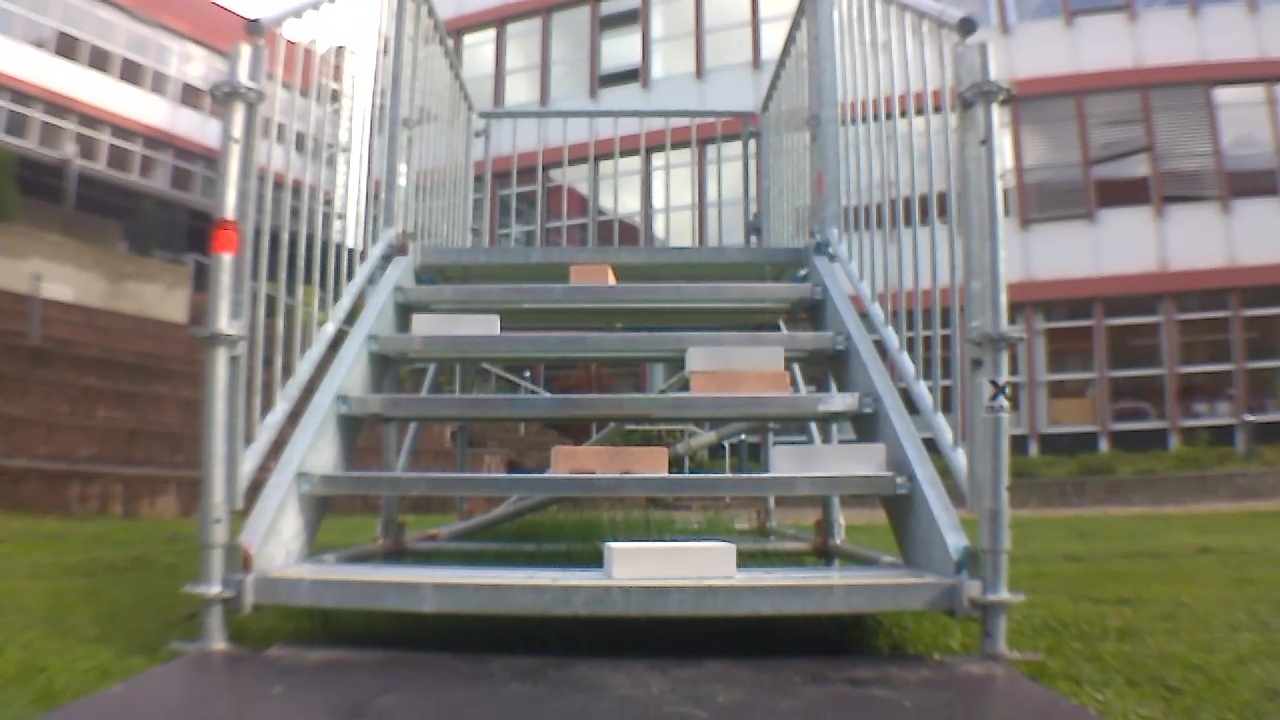brick: (605, 541, 735, 581), (770, 443, 883, 475), (552, 446, 666, 472), (689, 370, 786, 396), (685, 347, 781, 371), (414, 315, 499, 334), (567, 264, 614, 284)
edge: (252, 576, 949, 614), (297, 471, 913, 495), (336, 393, 879, 414), (371, 330, 849, 352), (422, 245, 814, 264), (396, 282, 829, 299)
stairs: (190, 2, 1024, 659)
steps: (245, 240, 954, 624)
